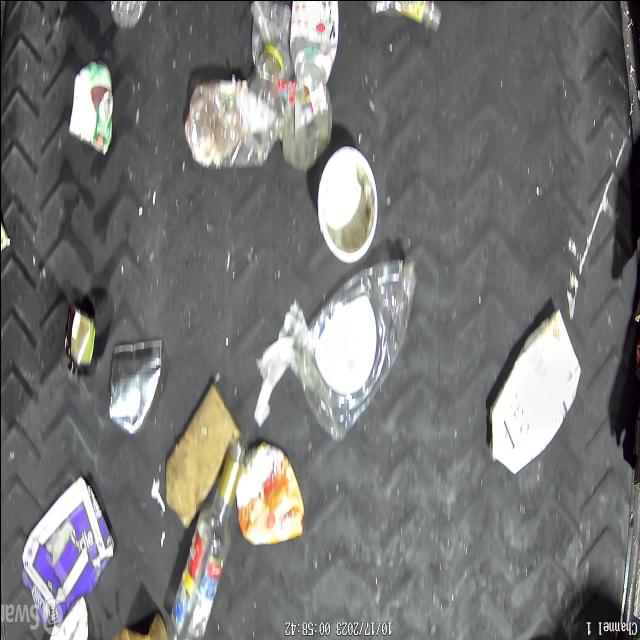can: (107, 342, 159, 434), (67, 300, 95, 368)
milk_jug: (490, 309, 580, 473)
plastic_bottle: (300, 256, 412, 438), (186, 78, 284, 166), (170, 514, 225, 640), (288, 0, 340, 90), (358, 0, 441, 33), (108, 0, 152, 32)
